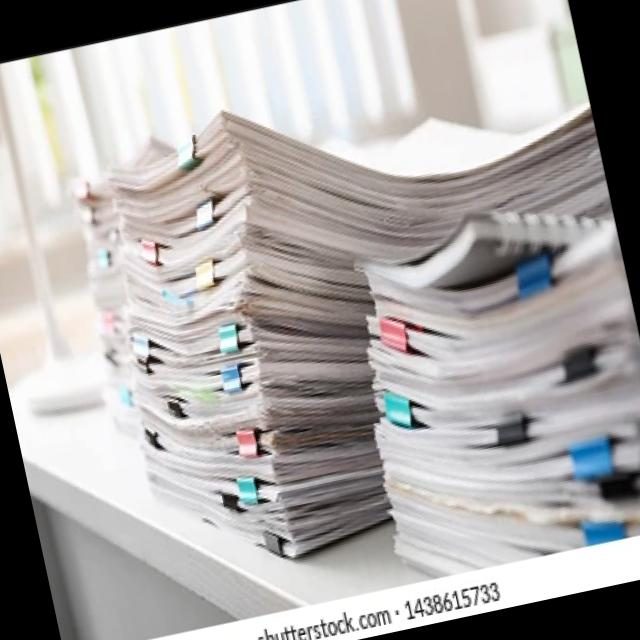KertasBekas: (60, 32, 640, 629), (326, 180, 640, 586)
